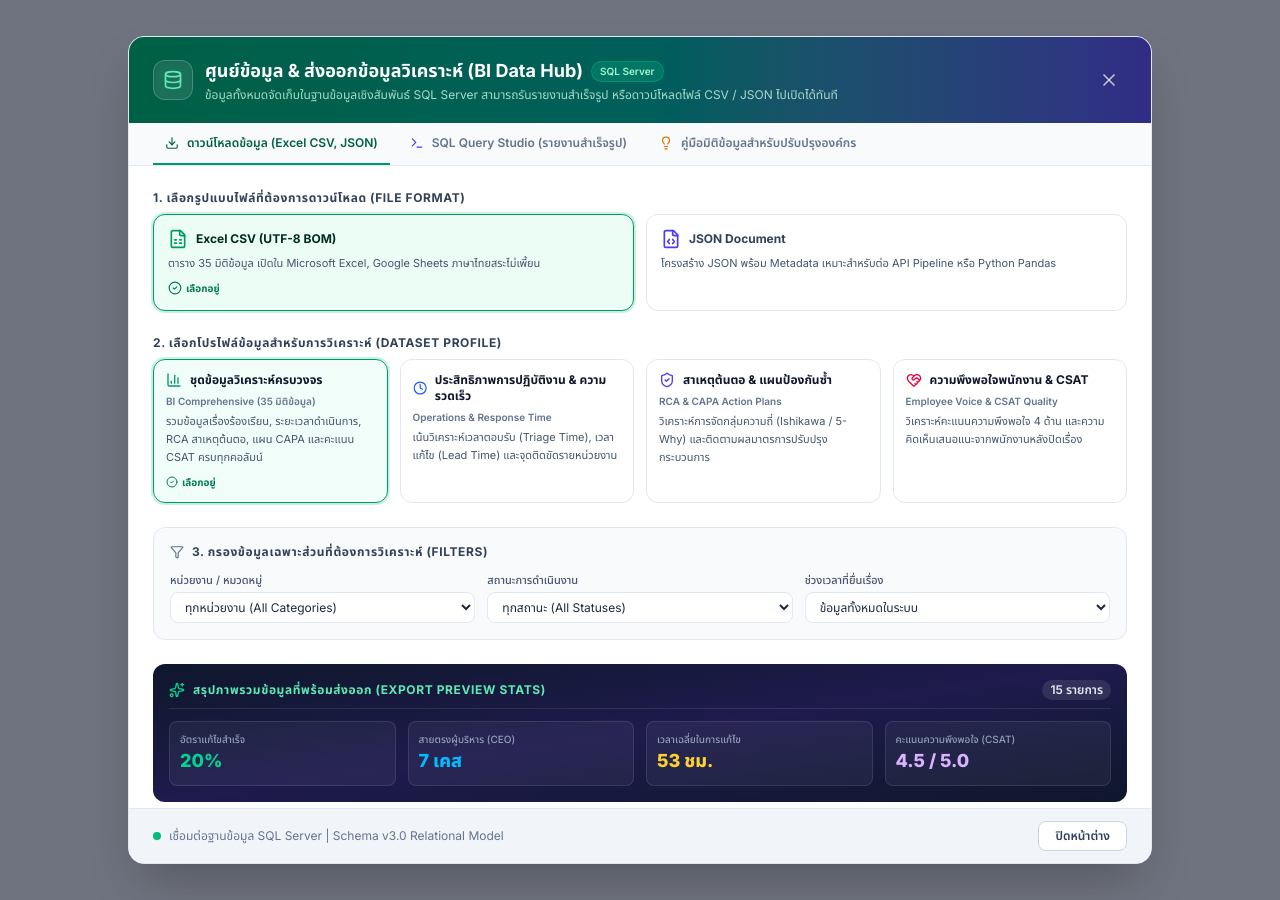
Test: filters and metrics preview › narrows the preview by status
Select "ปิดเรื่องแล้ว (Closed)" in the dropdown labelled "สถานะการดำเนินงาน" at (640, 608), box [487, 592, 793, 623]
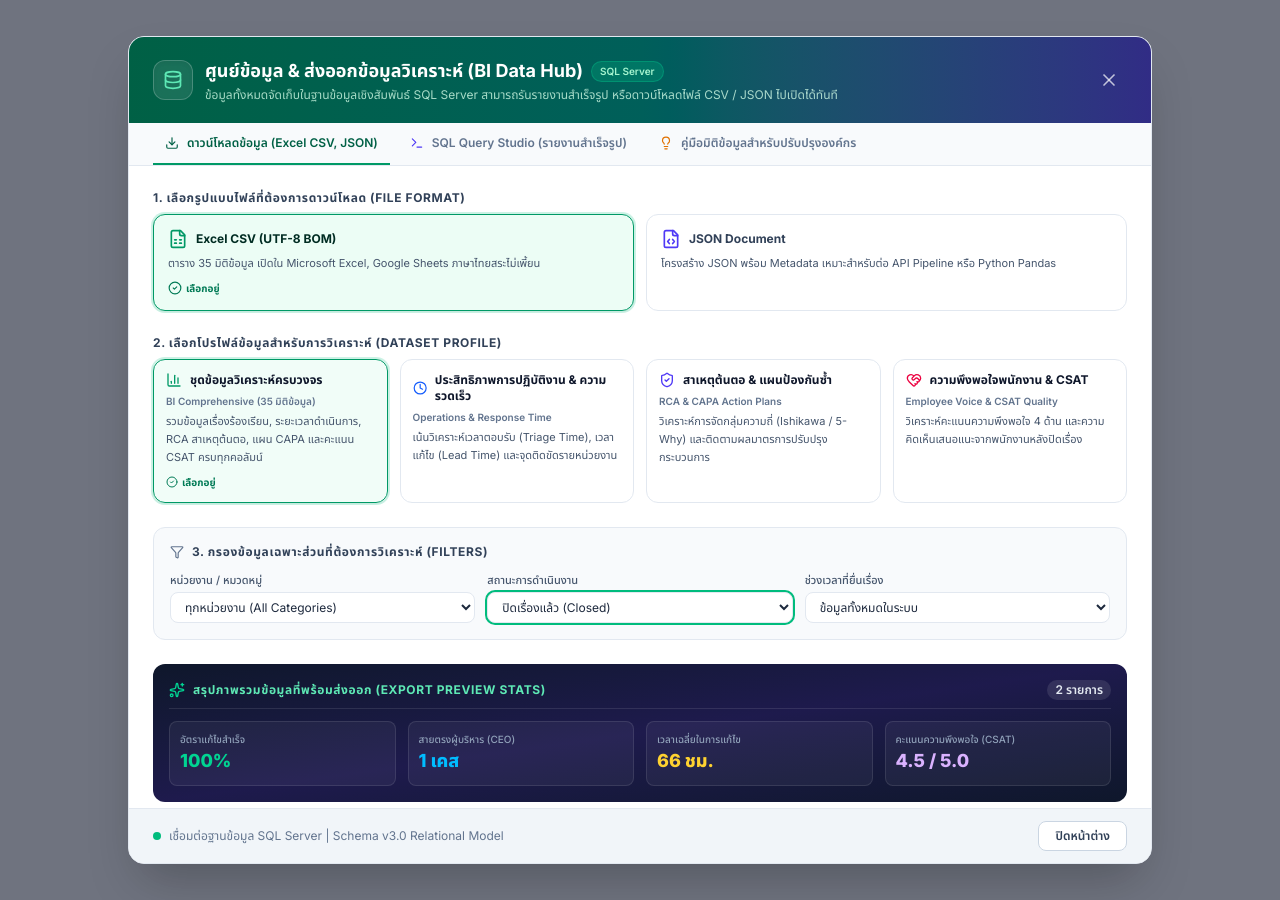
Check: the text "2 รายการ" is shown, box [1047, 680, 1111, 700]
Check: the text "100%" is shown, box [180, 750, 231, 771]
